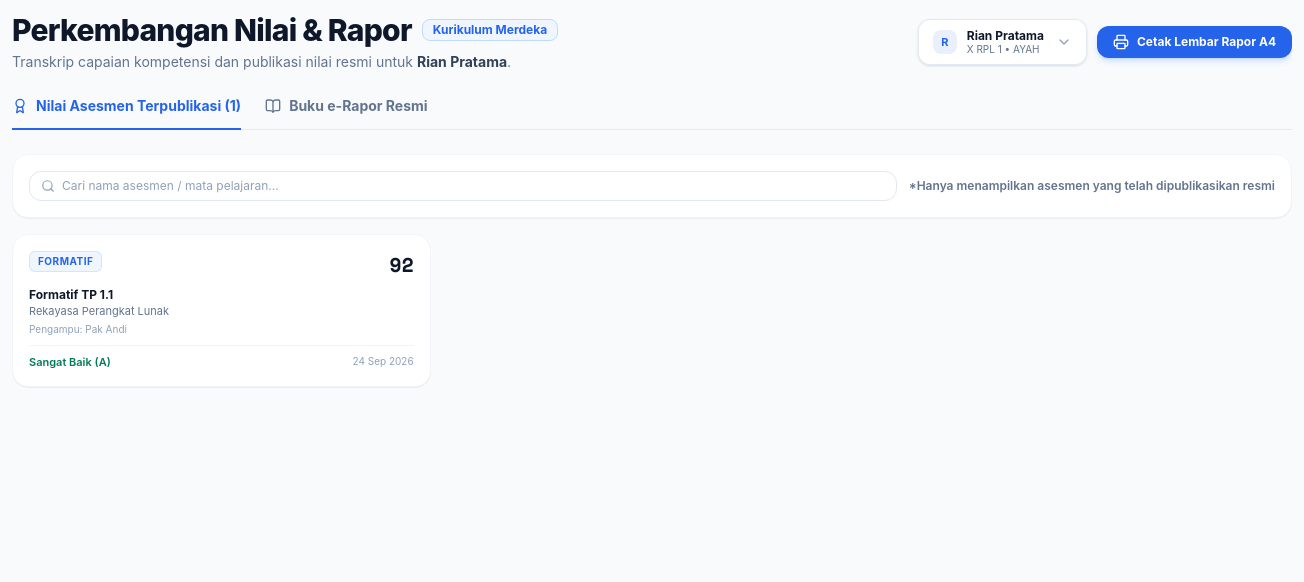
Test case: M15 Guardian & Family — Presentation Views (Academic Glass UI v1.2) › merender GuardianGradesView dan dapat berpindah ke tab e-Rapor resmi
Expected: the heading "Perkembangan Nilai & Rapor" is shown, top-left (12, 12), bottom-right (412, 48)
Expected: the heading "Formatif TP 1.1" is shown, top-left (29, 287), bottom-right (113, 302)
Note: Klik tab e-Rapor
Click the button with test id "tab-report" at (346, 113), box top-left (265, 96), bottom-right (428, 130)
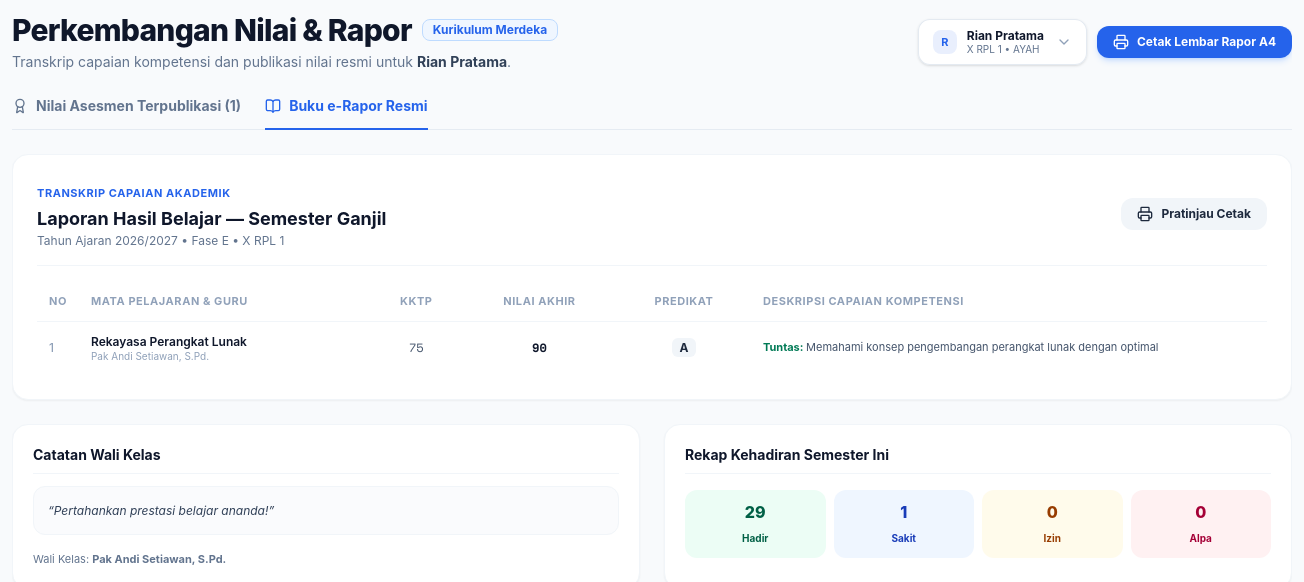
Result: the text "Transkrip Capaian Akademik" is shown at top-left (37, 186), bottom-right (231, 200)
Result: the text "“Pertahankan prestasi belajar ananda!”" is shown at top-left (33, 486), bottom-right (619, 536)
Result: the text "Memahami konsep pengembangan perangkat lunak dengan optimal" is shown at top-left (806, 340), bottom-right (1158, 354)
